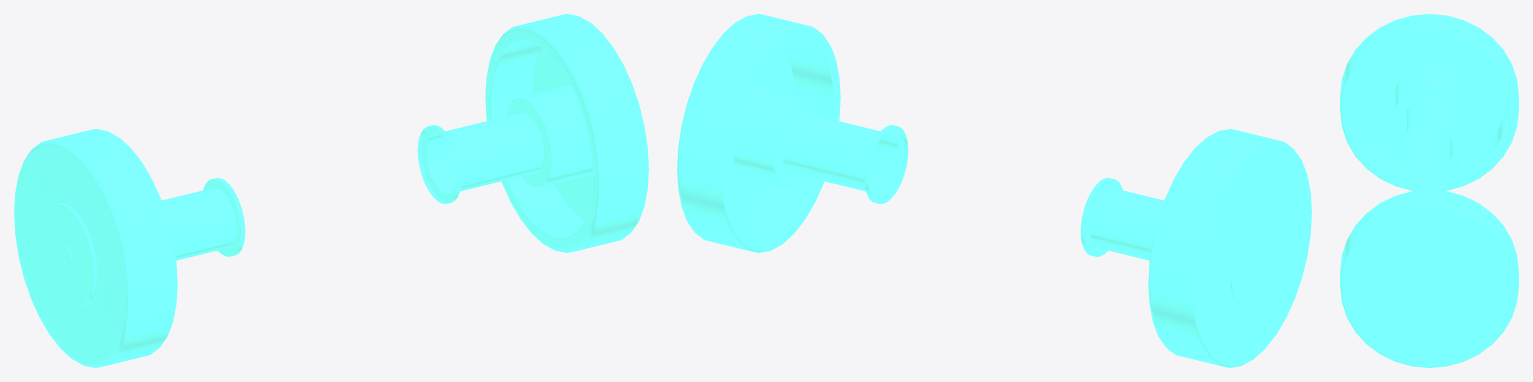
The model's file is hcourse.gltf.
3 renders of one model, left to right at view 1: azimuth 30°, elevation 25°; view 2: azimuth 150°, elevation 25°; view 3: azimuth 270°, elevation 25°, orthographic. The views are drawn at different scales.
Visible parts, largest first — view 1: focusknob; view 2: focusknob; view 3: focusknob.
Boxes of the visible parts, x1,y1,x2,y2 form: focusknob: [14, 14, 648, 367]; focusknob: [677, 14, 1311, 367]; focusknob: [1340, 14, 1518, 367].
Size of the model in its own units: 0.0958 by 0.0365 by 0.0365.
